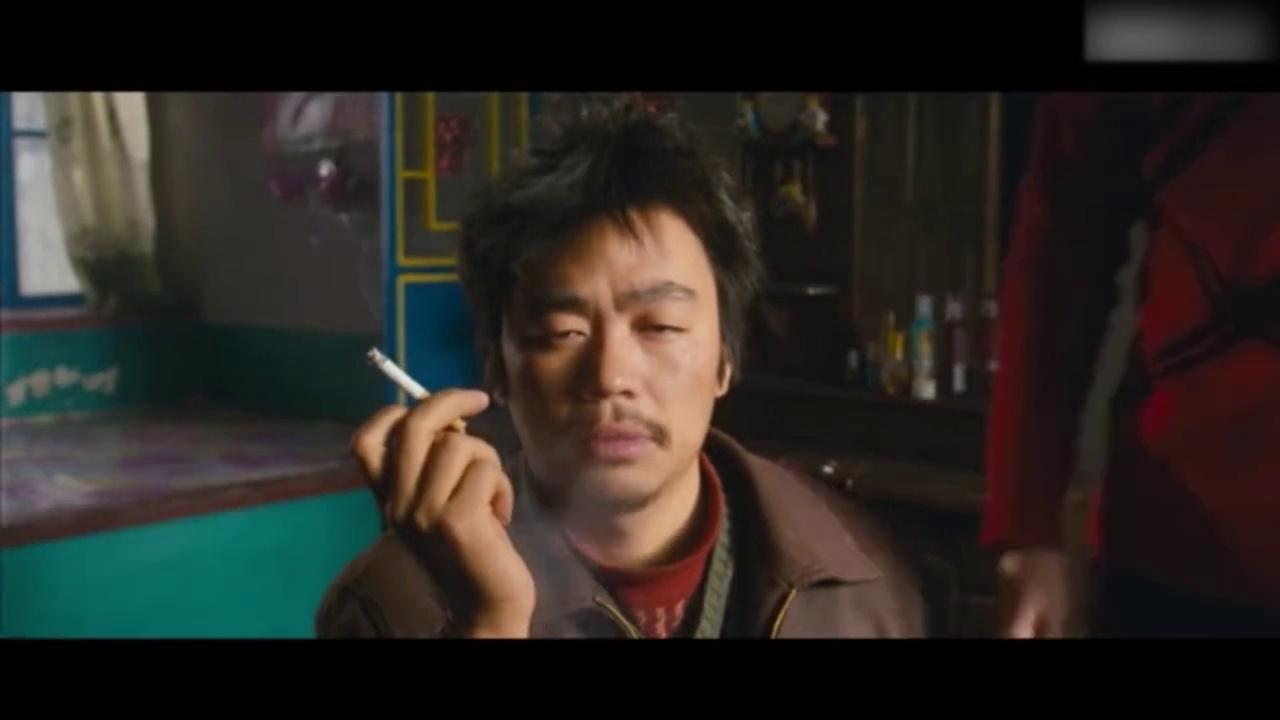smoke: (365, 345, 469, 433)
